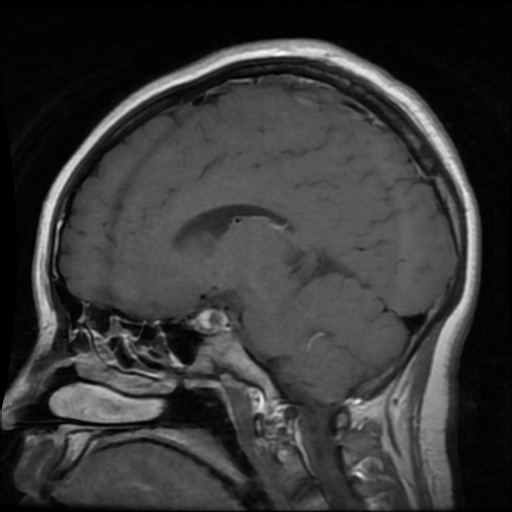pituitary: (190, 309, 229, 333)
